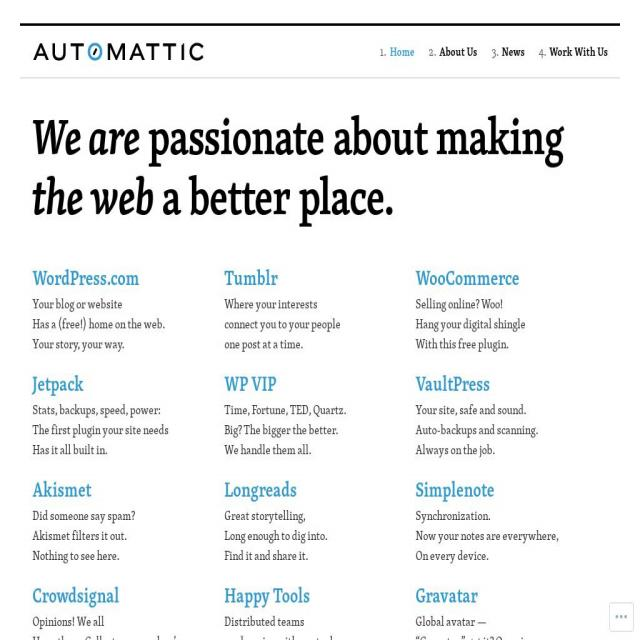navigation-blocks: (25, 245, 580, 638)
navigation-links: (378, 32, 624, 72)
options: (610, 597, 638, 635)
